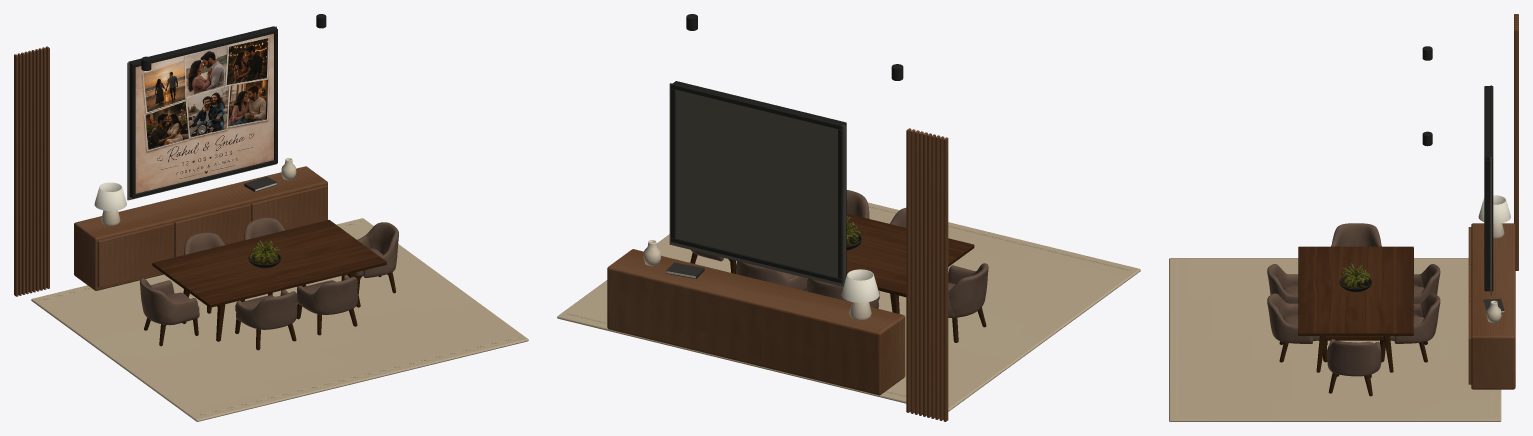
The model's file is room-2.glb.
3 views of the same model, side by side, from view 1: azimuth 30°, elevation 25°; view 2: azimuth 150°, elevation 25°; view 3: azimuth 270°, elevation 25° (orthographic). The views are drawn at different scales.
Visible parts, largest first — view 1: STATIC_ROOM_03_TOGETHER_PBR_Woven_oatmeal, STATIC_ROOM_03_TOGETHER_PBR_American_Walnut, STATIC_ROOM_03_TOGETHER_MESHY_PBR_Dining_Room, ART_03_TOGETHER, STATIC_ROOM_03_TOGETHER_PBR_Blackened_Steel, LUMINAIRE_Linen_Shade.001, FRAME_03_TOGETHER_SHADOW, STATIC_ROOM_03_TOGETHER_PBR_Bone_Glazed_Ceramic; view 2: STATIC_ROOM_03_TOGETHER_PBR_American_Walnut, FRAME_03_TOGETHER_SHADOW, STATIC_ROOM_03_TOGETHER_PBR_Woven_oatmeal, STATIC_ROOM_03_TOGETHER_MESHY_PBR_Dining_Room, STATIC_ROOM_03_TOGETHER_PBR_Blackened_Steel, LUMINAIRE_Linen_Shade.001, STATIC_ROOM_03_TOGETHER_PBR_Bone_Glazed_Ceramic; view 3: STATIC_ROOM_03_TOGETHER_PBR_Woven_oatmeal, STATIC_ROOM_03_TOGETHER_MESHY_PBR_Dining_Room, STATIC_ROOM_03_TOGETHER_PBR_American_Walnut, STATIC_ROOM_03_TOGETHER_PBR_Blackened_Steel, LUMINAIRE_Linen_Shade.001, STATIC_ROOM_03_TOGETHER_PBR_Bone_Glazed_Ceramic.
Part boxes in pixels (x1,y1,x2,y2): STATIC_ROOM_03_TOGETHER_PBR_Woven_oatmeal: (31,218,528,421); STATIC_ROOM_03_TOGETHER_PBR_American_Walnut: (14,46,327,296); STATIC_ROOM_03_TOGETHER_MESHY_PBR_Dining_Room: (139,217,398,350); ART_03_TOGETHER: (135,33,273,193); STATIC_ROOM_03_TOGETHER_PBR_Blackened_Steel: (128,14,326,198); LUMINAIRE_Linen_Shade.001: (94,182,126,210); FRAME_03_TOGETHER_SHADOW: (127,26,276,200); STATIC_ROOM_03_TOGETHER_PBR_Bone_Glazed_Ceramic: (101,158,296,225); STATIC_ROOM_03_TOGETHER_PBR_American_Walnut: (607,128,948,421); FRAME_03_TOGETHER_SHADOW: (669,83,845,286); STATIC_ROOM_03_TOGETHER_PBR_Woven_oatmeal: (557,202,1140,411); STATIC_ROOM_03_TOGETHER_MESHY_PBR_Dining_Room: (690,190,988,342); STATIC_ROOM_03_TOGETHER_PBR_Blackened_Steel: (671,14,903,283); LUMINAIRE_Linen_Shade.001: (841,269,879,302); STATIC_ROOM_03_TOGETHER_PBR_Bone_Glazed_Ceramic: (643,240,871,319); STATIC_ROOM_03_TOGETHER_PBR_Woven_oatmeal: (1169,258,1501,421); STATIC_ROOM_03_TOGETHER_MESHY_PBR_Dining_Room: (1267,223,1440,396); STATIC_ROOM_03_TOGETHER_PBR_American_Walnut: (1468,14,1518,389); STATIC_ROOM_03_TOGETHER_PBR_Blackened_Steel: (1422,46,1493,291); LUMINAIRE_Linen_Shade.001: (1478,195,1510,223); STATIC_ROOM_03_TOGETHER_PBR_Bone_Glazed_Ceramic: (1486,223,1504,322).
Bounding box in the file's own units: 5.33 × 3.74 × 4.74.
12 materials, 6 textured.
